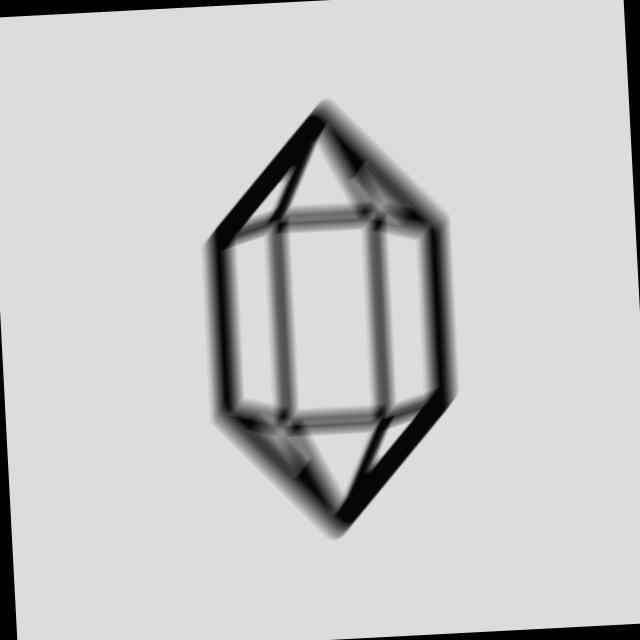crystal: (184, 85, 481, 555)
